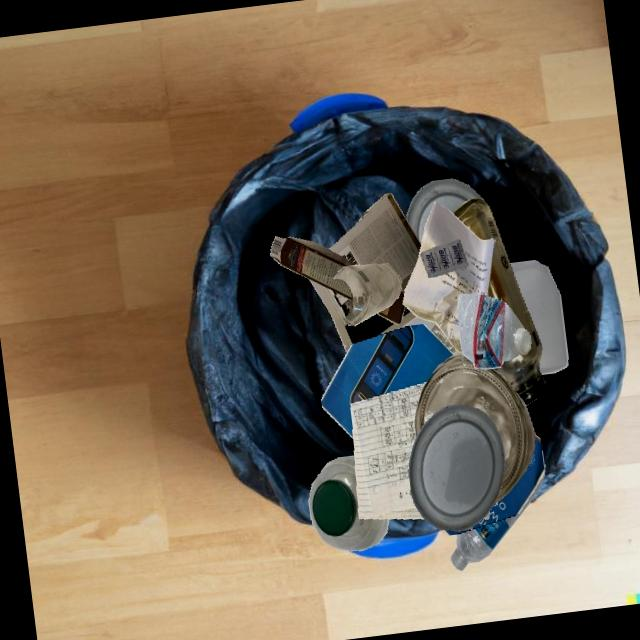cardboard: (270, 236, 356, 300)
glass: (452, 197, 544, 405), (414, 351, 535, 503), (333, 263, 401, 325)
paper: (321, 323, 453, 438), (402, 201, 495, 352), (350, 381, 426, 518), (442, 433, 544, 535), (328, 193, 421, 291), (308, 278, 417, 352)
plastic: (408, 404, 505, 531), (450, 472, 544, 570), (308, 455, 388, 550), (509, 260, 568, 374), (457, 294, 531, 369), (406, 178, 484, 244), (420, 238, 468, 277), (431, 323, 459, 354)
